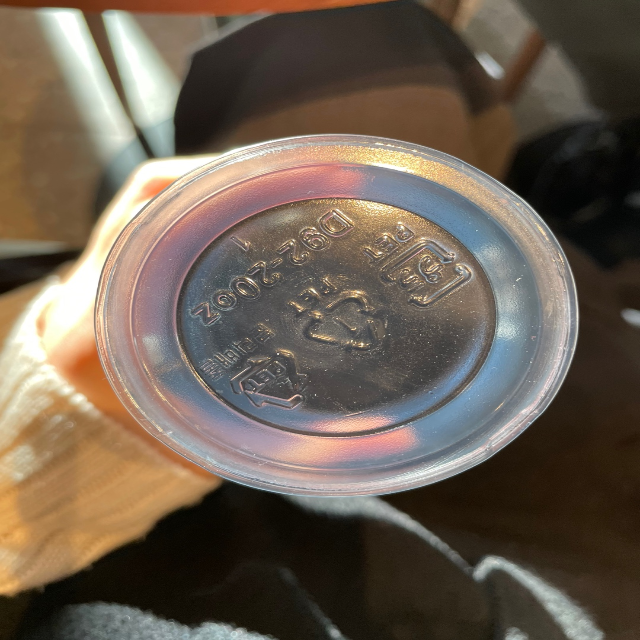pet: (189, 315, 310, 416), (362, 211, 476, 312), (284, 270, 385, 362)
